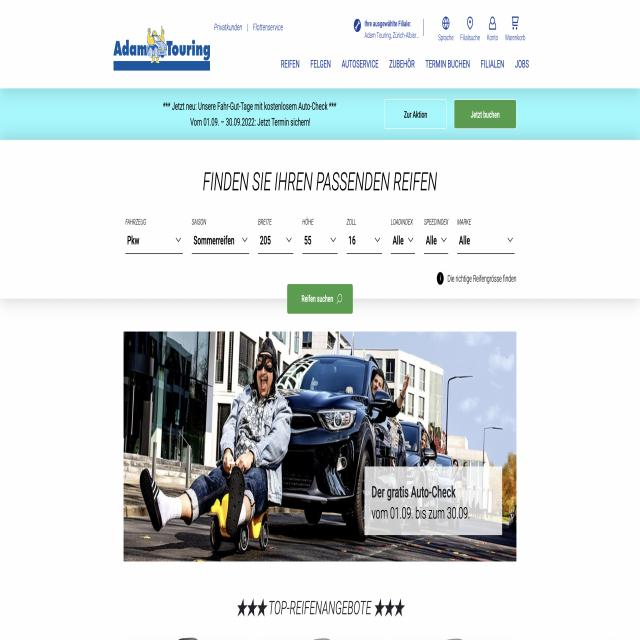Logo: (104, 20, 221, 81)
Navigation: (274, 44, 542, 81)
